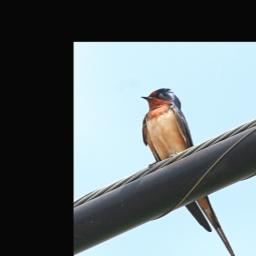Swallow: (140, 87, 238, 256)
